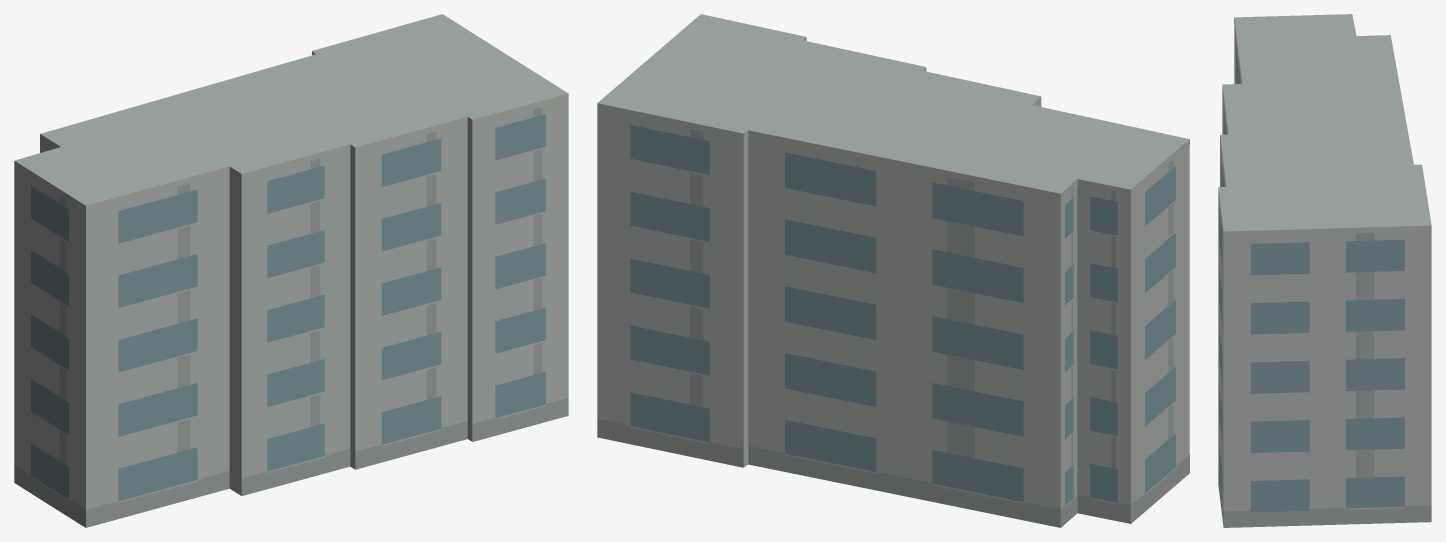
File: survey-upis-32640687.glb
3 renders of one model, left to right at view 1: azimuth 30°, elevation 25°; view 2: azimuth 150°, elevation 25°; view 3: azimuth 270°, elevation 25°, orthographic. The views are drawn at different scales.
Visible parts, largest first — view 1: survey-upis-32640687.tmp; view 2: survey-upis-32640687.tmp; view 3: survey-upis-32640687.tmp.
Part boxes in pixels (x1,y1,x2,y2): survey-upis-32640687.tmp: (14,14,568,527); survey-upis-32640687.tmp: (597,14,1189,527); survey-upis-32640687.tmp: (1218,14,1431,527).
Size of the model in its own units: 20.63 by 13.1 by 8.56.
